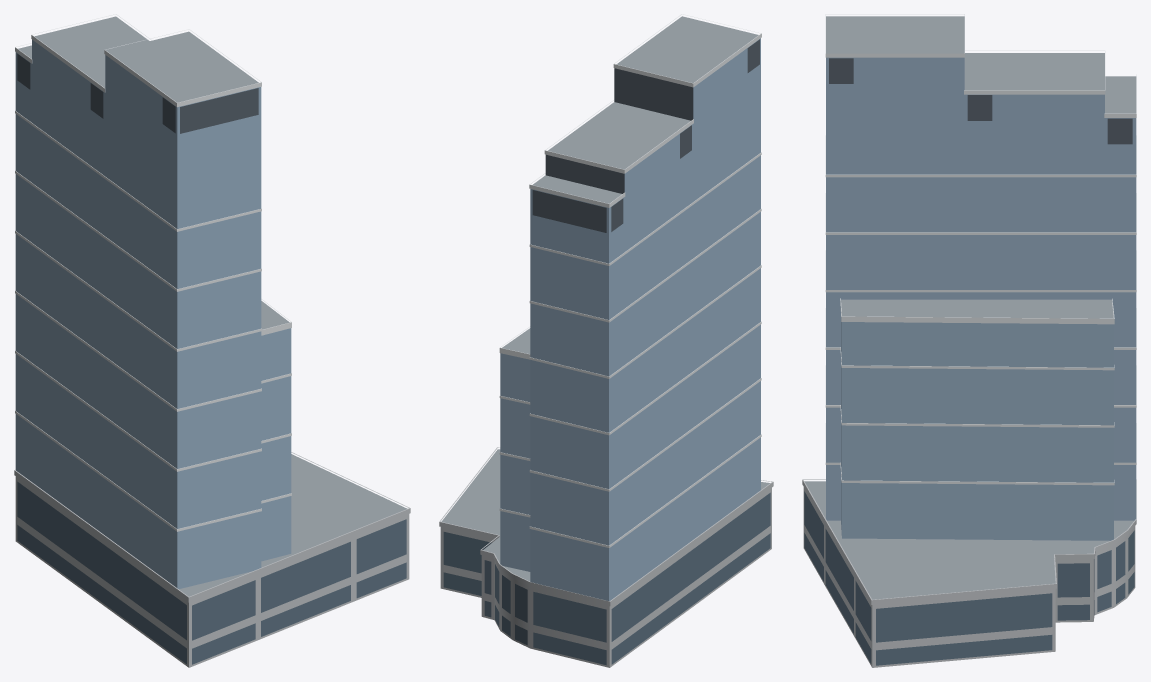
File: msp-rbc-gateway.glb
3 renders of one model, left to right at view 1: azimuth 30°, elevation 25°; view 2: azimuth 150°, elevation 25°; view 3: azimuth 270°, elevation 25°, orthographic. The views are drawn at different scales.
Visible parts, largest first — view 1: RBC Gateway; view 2: RBC Gateway; view 3: RBC Gateway.
Part boxes in pixels (box(x1,y1,x2,y2)): RBC Gateway: box(14, 14, 410, 667); RBC Gateway: box(439, 14, 773, 667); RBC Gateway: box(802, 14, 1136, 667).
Bounding box in the file's own units: 77.55 × 160 × 90.63.
